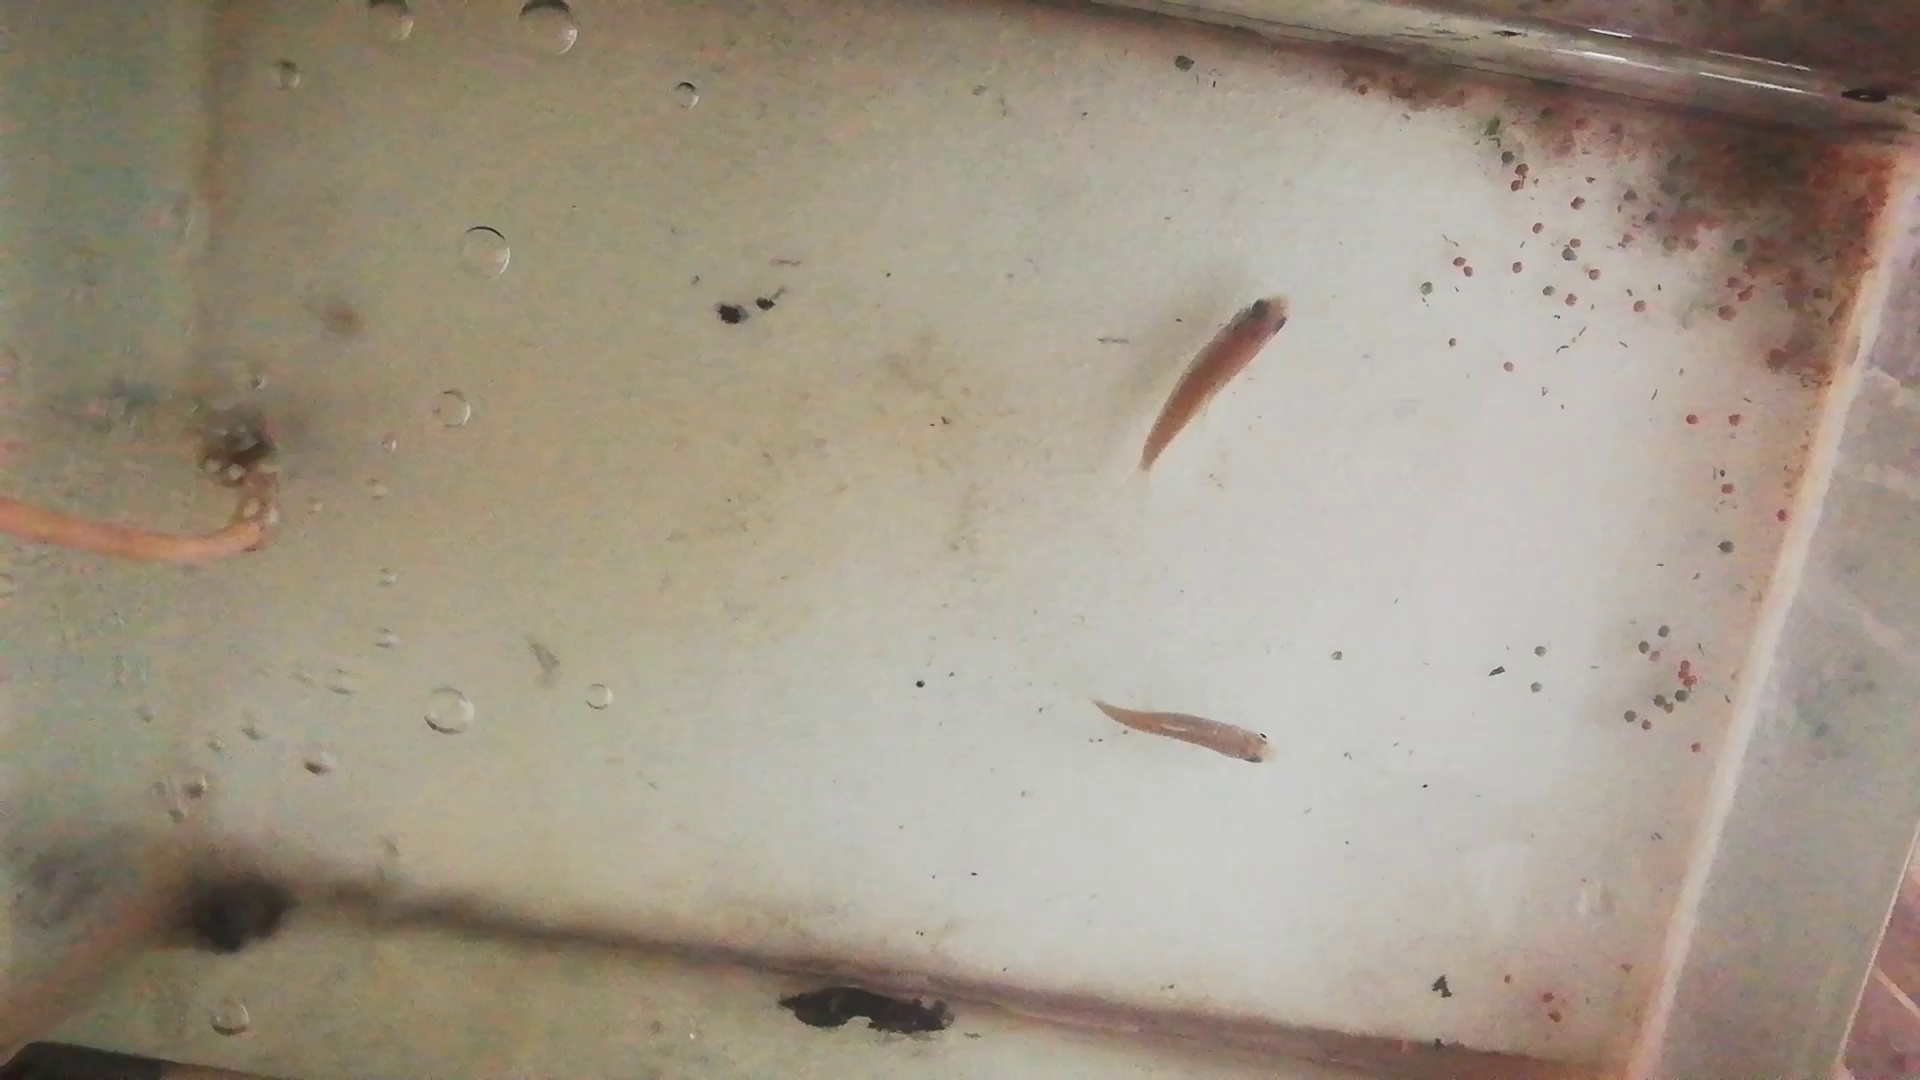fish: (1131, 293, 1287, 469), (1093, 695, 1273, 773)
